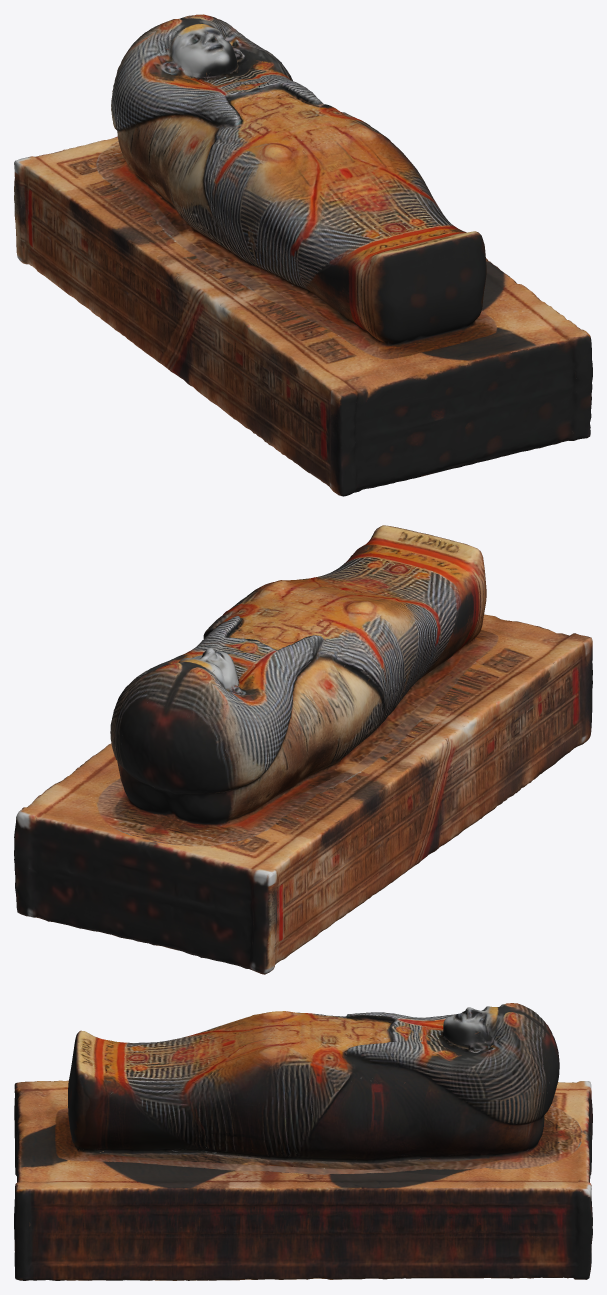
Rendered from Chisisek's Tomb.glb.
3 renders of one model, top to bottom at view 1: azimuth 30°, elevation 25°; view 2: azimuth 150°, elevation 25°; view 3: azimuth 270°, elevation 25°, orthographic. The views are drawn at different scales.
Visible parts, largest first — view 1: Mesh_0; view 2: Mesh_0; view 3: Mesh_0.
Boxes of the visible parts, bbox=[...] form: Mesh_0: bbox=[14, 14, 592, 496]; Mesh_0: bbox=[14, 525, 592, 974]; Mesh_0: bbox=[14, 1003, 592, 1280].
Size of the model in its own units: 1.95 by 1.8 by 4.28.
1 material, 1 textured.
